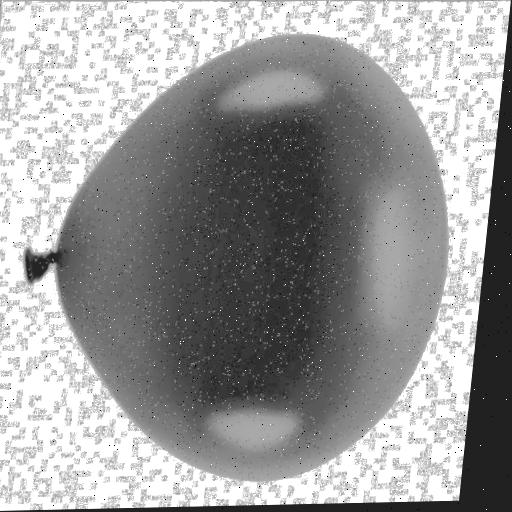balloon: (0, 29, 472, 487)
